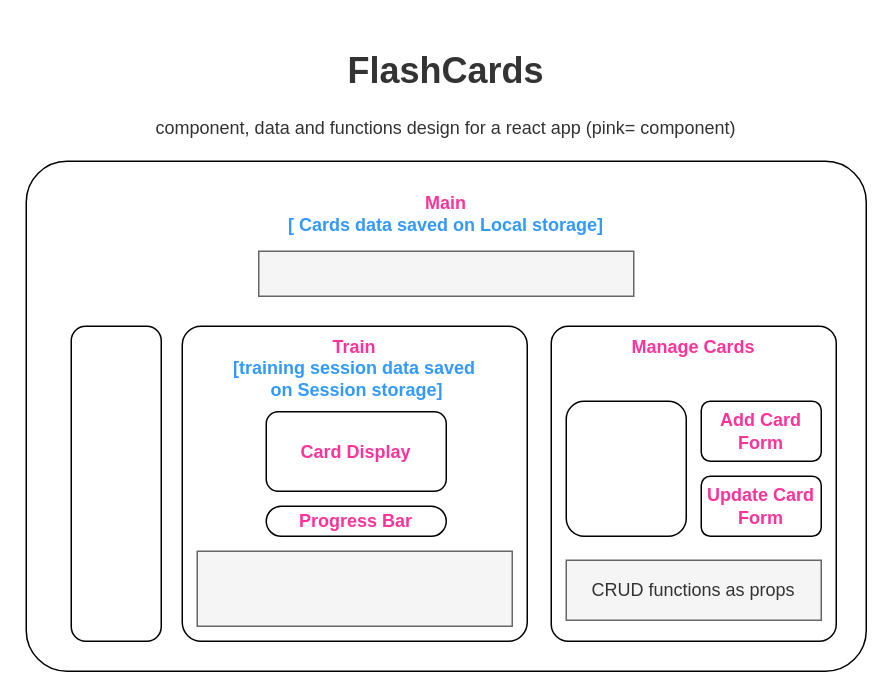
Some shapes in this 893 by 698 pixel diagram are drawn without their labels. The centre of each missing label's shape, as x and y in pixels:
"Cards List" belongs at (625,468).
"functions: Add, Edit (update) , Delete card" belongs at (445,273).
"functions: next card, flip card, remove from deck, reshuffle, Train again" belongs at (354,588).
"Home" belongs at (115,483).
